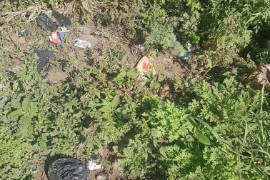trash: (32, 143, 110, 180), (40, 26, 95, 53), (136, 52, 160, 82), (179, 39, 195, 63)
